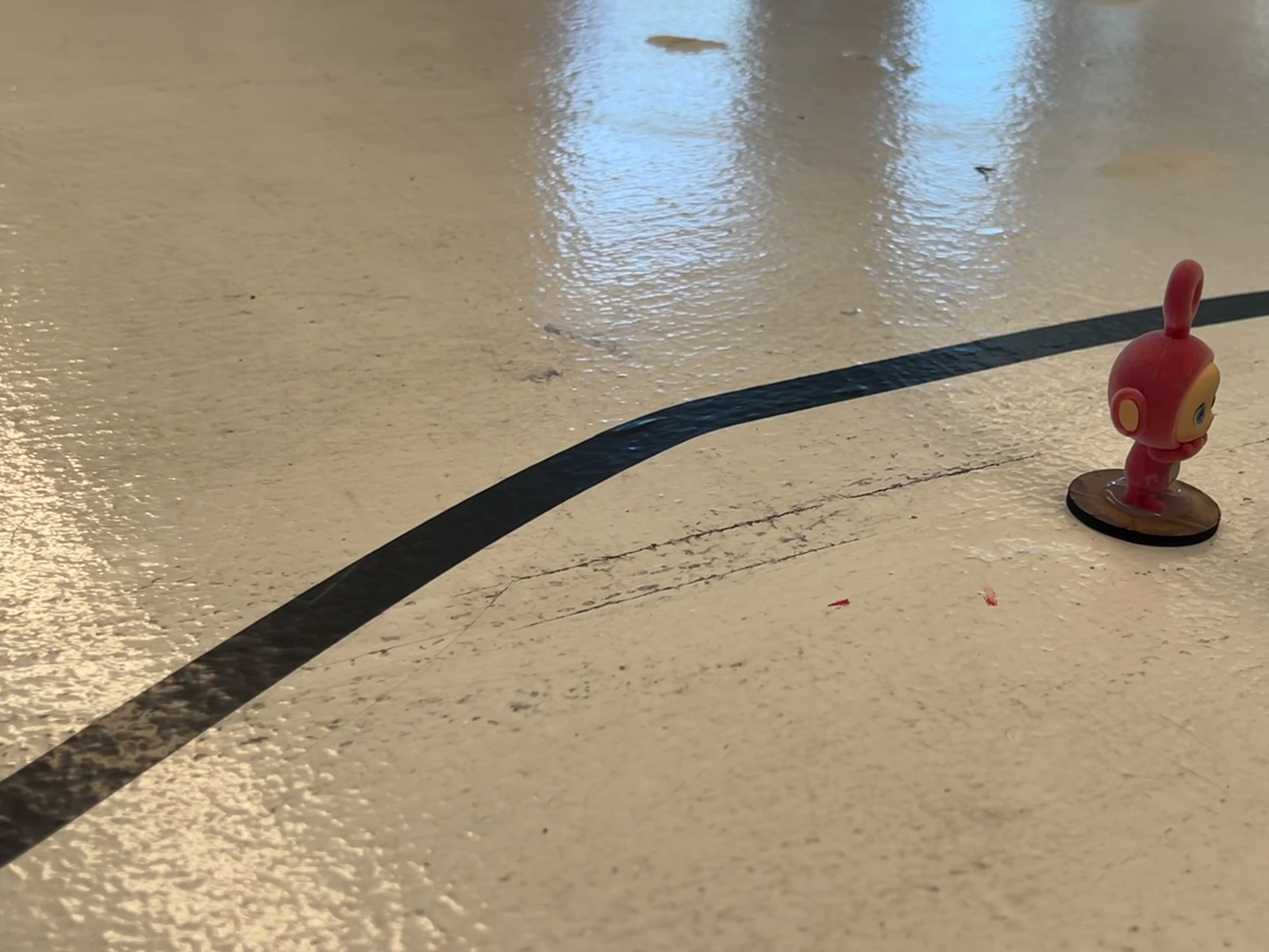teletubby: (1107, 260, 1220, 513)
